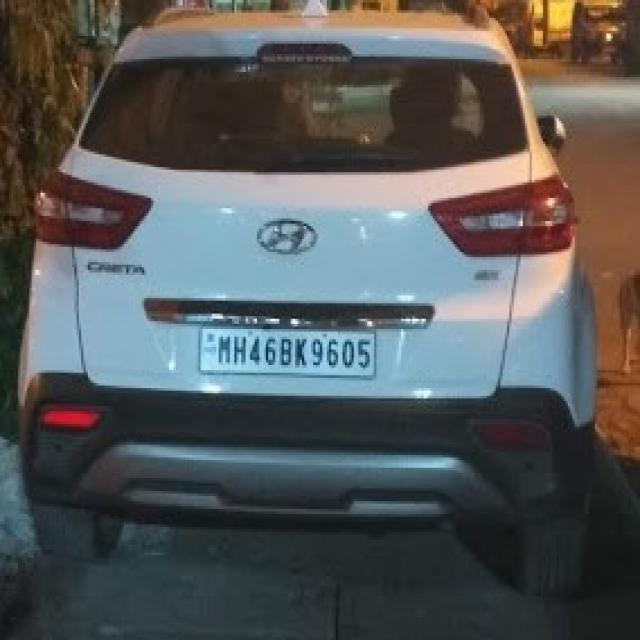Number-Plate: (202, 326, 379, 374)
